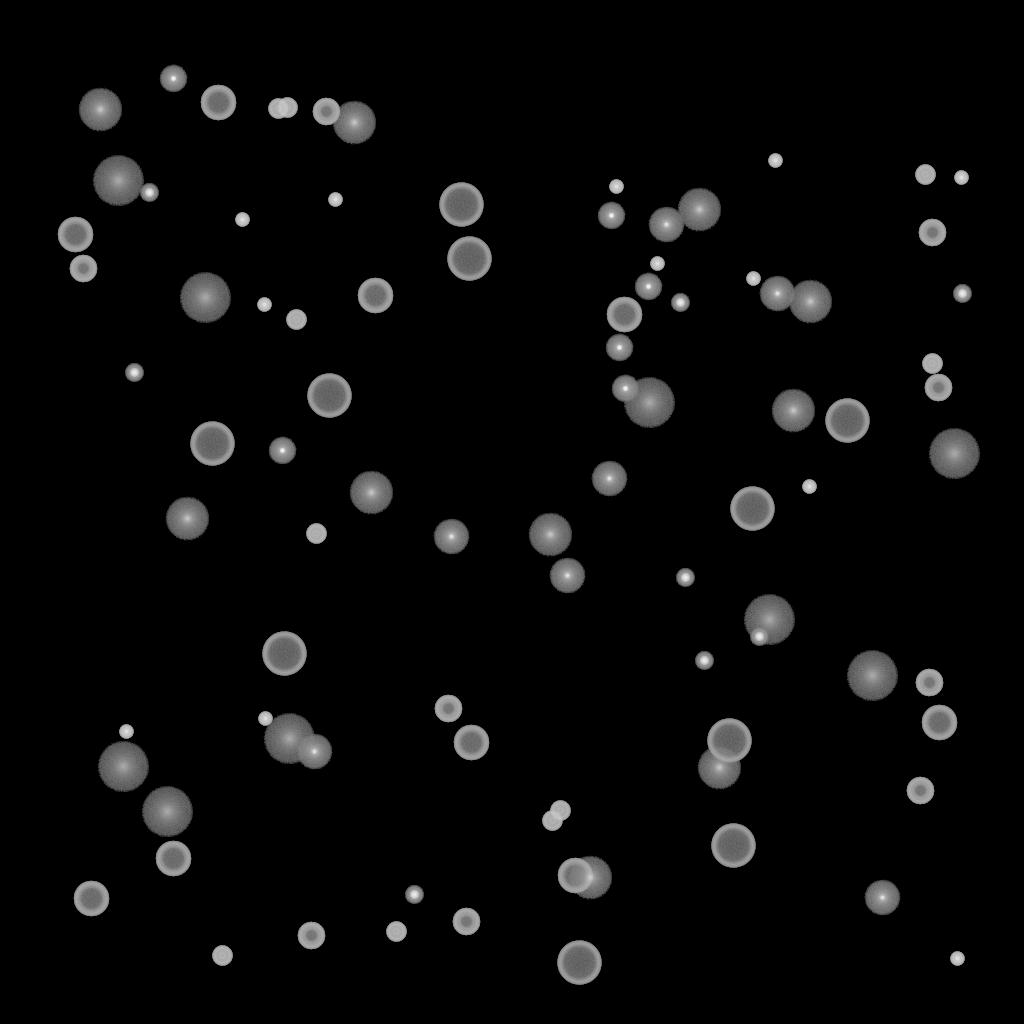depth:-10: (611, 375, 639, 403), (268, 437, 296, 465), (634, 273, 662, 301), (597, 202, 625, 230), (159, 65, 187, 93), (605, 334, 633, 362)
depth:-20: (671, 294, 689, 312), (695, 652, 713, 670), (953, 285, 971, 303), (676, 569, 694, 587), (405, 886, 423, 904), (140, 184, 158, 202), (125, 364, 143, 382), (750, 628, 768, 646)
depth:-30: (746, 272, 760, 286), (258, 712, 272, 726), (609, 180, 623, 194), (802, 480, 816, 494), (768, 154, 782, 168), (119, 725, 133, 739), (328, 193, 342, 207), (650, 257, 664, 271), (954, 171, 968, 185), (950, 952, 964, 966), (257, 298, 271, 312), (235, 213, 249, 227)
depth:-40: (915, 165, 935, 185), (922, 354, 942, 374), (212, 946, 232, 966), (542, 811, 562, 831), (550, 801, 570, 821), (277, 98, 297, 118), (386, 922, 406, 942), (306, 524, 326, 544), (268, 99, 288, 119), (286, 310, 306, 330)
depth:-50: (452, 908, 480, 936), (312, 98, 340, 126), (924, 374, 952, 402), (69, 255, 97, 283), (434, 695, 462, 723), (915, 669, 943, 697), (906, 777, 934, 805), (297, 922, 325, 950), (918, 219, 946, 247)
depth:-60: (155, 841, 191, 877), (200, 85, 236, 121), (357, 278, 393, 314), (57, 217, 93, 253), (557, 858, 593, 894), (606, 297, 642, 333), (453, 725, 489, 761), (73, 881, 109, 917), (921, 705, 957, 741)
depth:-70: (307, 374, 351, 418), (447, 237, 491, 281), (707, 719, 751, 763), (557, 941, 601, 985), (711, 824, 755, 868), (439, 183, 483, 227), (262, 632, 306, 676), (190, 422, 234, 466), (730, 487, 774, 531), (825, 399, 869, 443)
depth:0: (433, 519, 469, 555), (648, 207, 684, 243), (759, 276, 795, 312), (591, 461, 627, 497), (296, 734, 332, 770), (864, 880, 900, 916), (549, 558, 585, 594)
depth:10: (697, 746, 741, 790), (332, 101, 376, 145), (165, 497, 209, 541), (78, 88, 122, 132), (771, 389, 815, 433), (788, 280, 832, 324), (528, 513, 572, 557), (349, 471, 393, 515), (568, 856, 612, 900), (677, 188, 721, 232)
depth:20: (623, 378, 675, 428), (263, 714, 315, 764), (97, 742, 149, 792), (141, 787, 193, 837), (179, 273, 231, 323), (928, 429, 980, 479), (743, 595, 795, 645), (846, 651, 898, 701), (92, 156, 144, 206)
